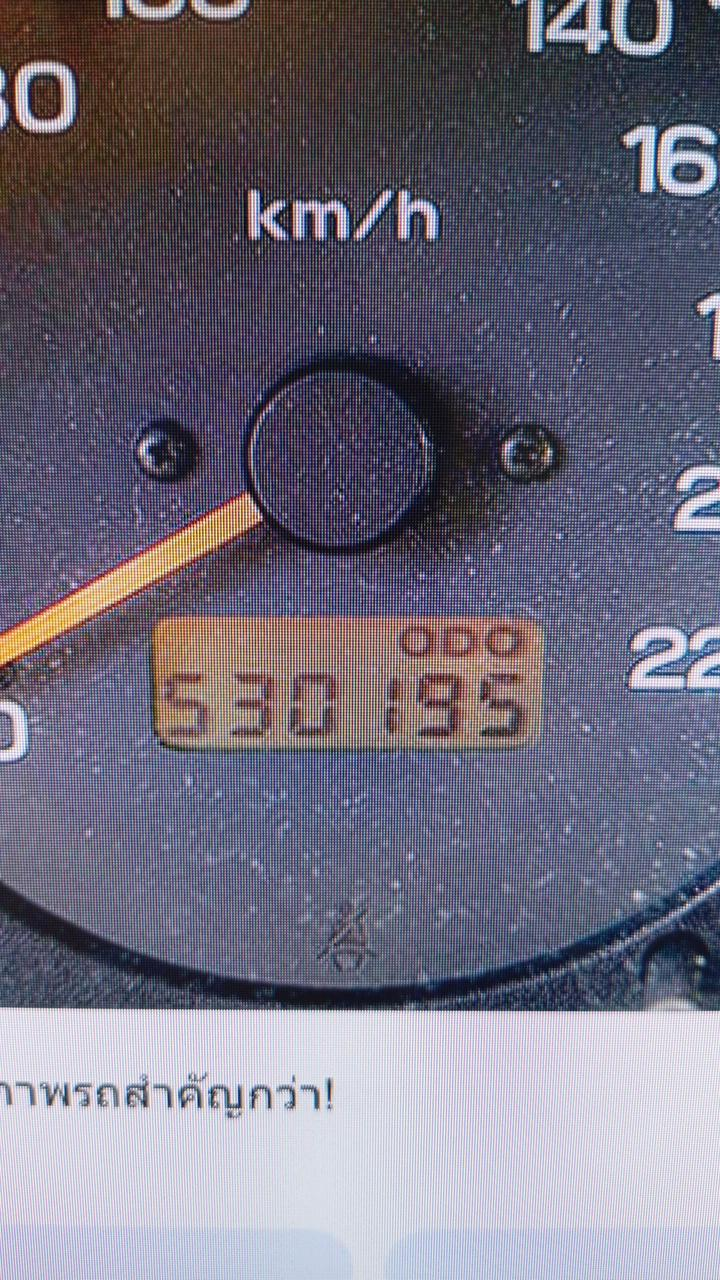odometer: (153, 610, 550, 755)
